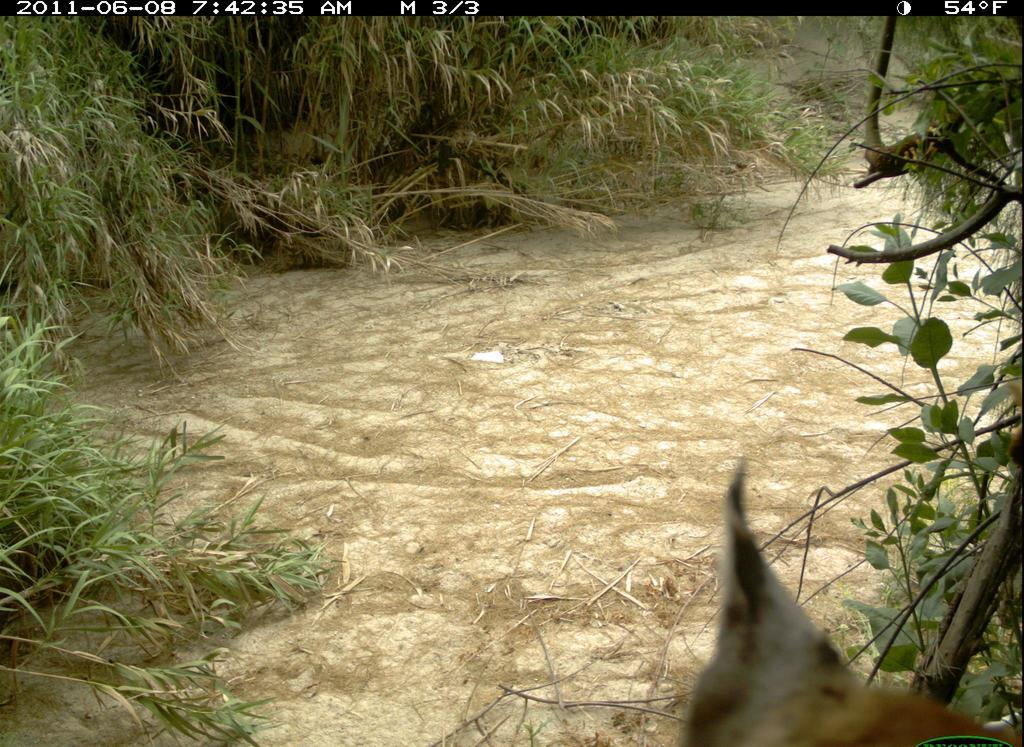bobcat: (671, 455, 1022, 745)
